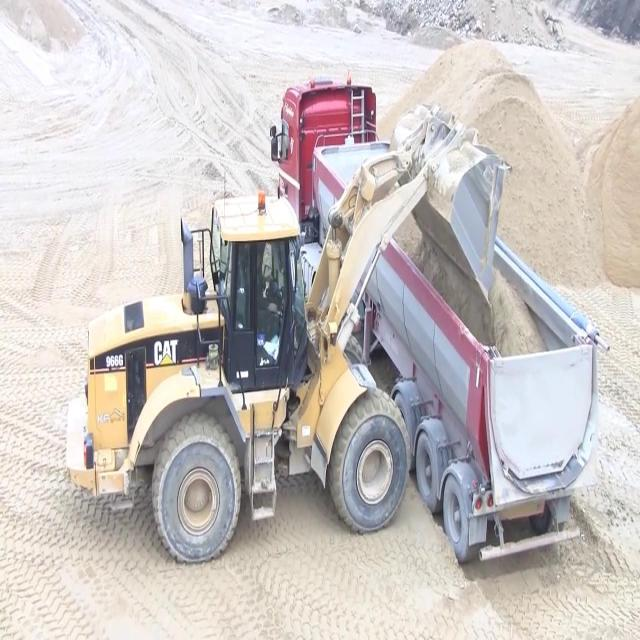buldozerpayloadergrader: (65, 100, 512, 566)
dump_truck: (268, 72, 610, 565)
